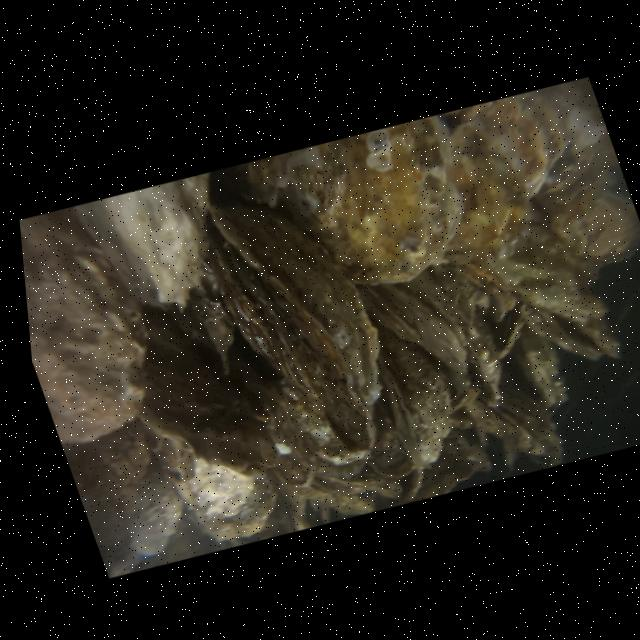Oyster-Closed: (208, 205, 381, 448)
Oyster-Indeterminate: (236, 116, 463, 284), (443, 79, 619, 254), (20, 209, 147, 443), (140, 307, 279, 480), (74, 173, 209, 307), (152, 426, 276, 541), (244, 379, 365, 474), (463, 354, 561, 465), (378, 326, 452, 468), (360, 284, 467, 374), (535, 183, 640, 271), (272, 452, 375, 528), (160, 259, 231, 365), (522, 303, 601, 360), (368, 430, 414, 478)
